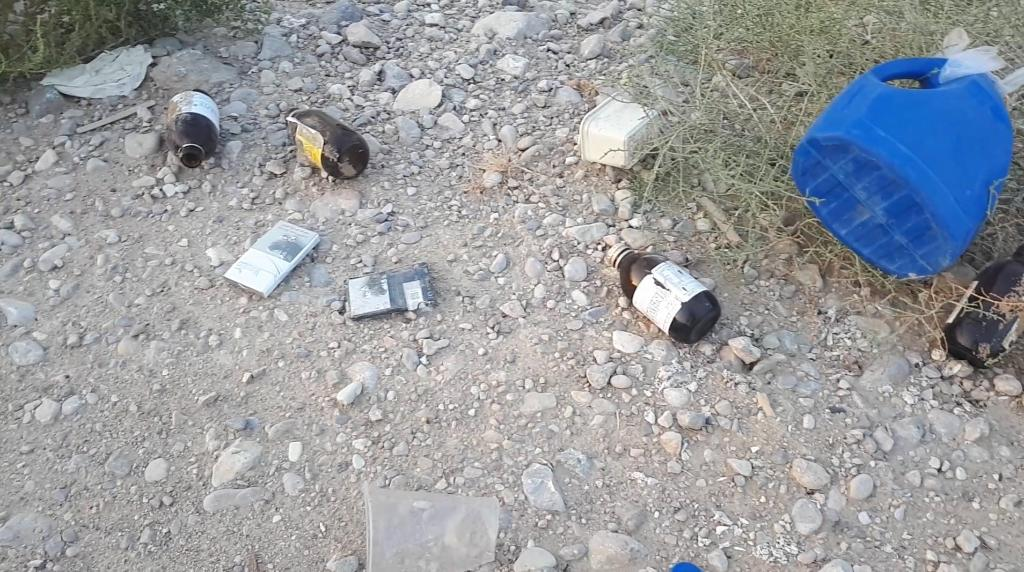garbage: (786, 45, 1023, 279), (791, 57, 1013, 278), (593, 225, 728, 339), (957, 221, 1023, 417), (273, 100, 392, 206), (606, 243, 721, 344), (940, 243, 1023, 369), (152, 76, 232, 174), (284, 108, 369, 180), (166, 89, 220, 168)
